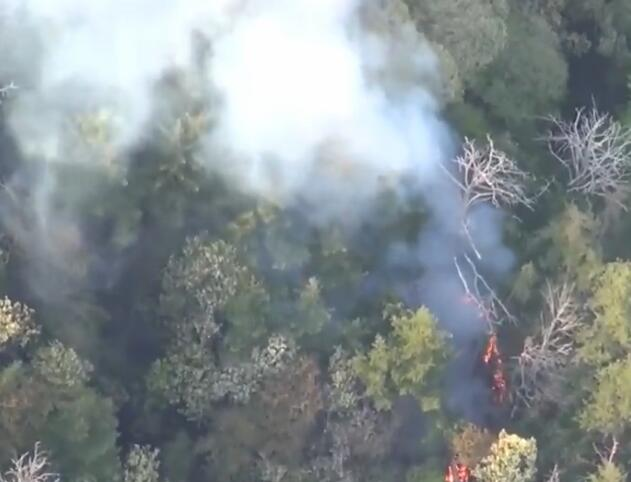fire: (477, 317, 507, 405), (435, 459, 472, 481)
yanwu: (1, 1, 517, 341)
